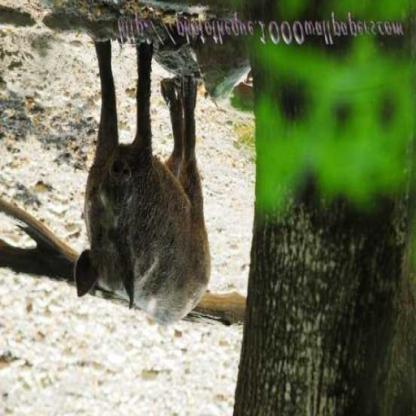boar: (43, 79, 226, 364)
